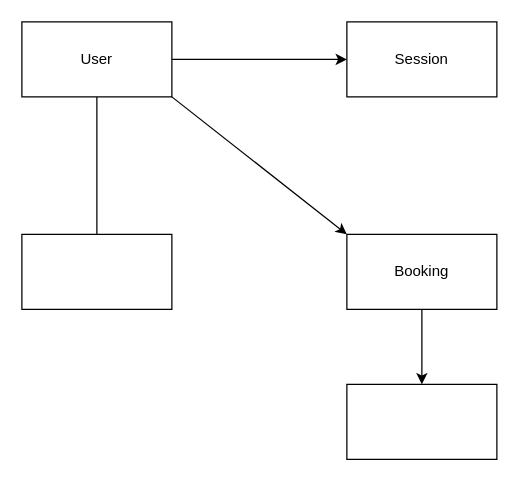
The diagram is 519 pixels wide and 481 high, and some of its shapes have lost their labels. Each missing label, with the box of its shape:
Blocked Booking Dates: (346, 383, 497, 459)
Student: (21, 233, 172, 309)
